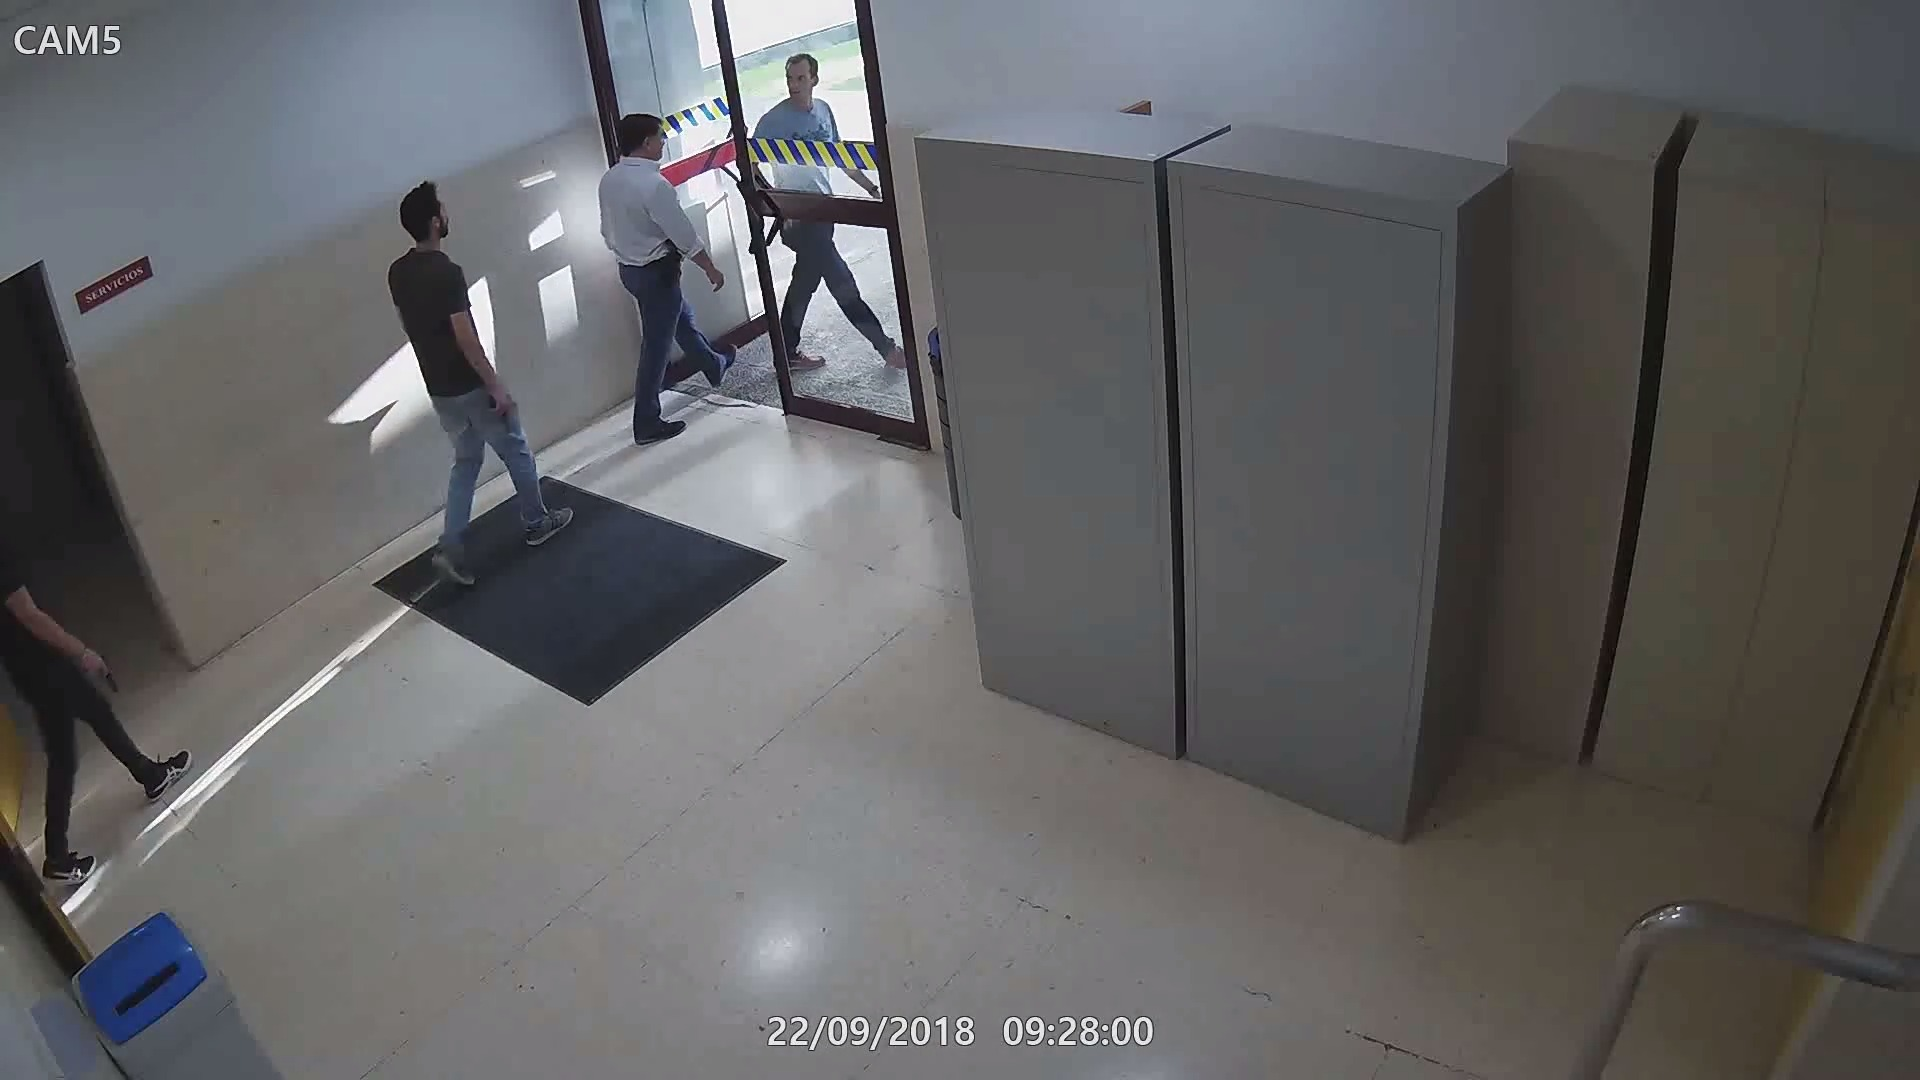Handgun: (79, 655, 124, 695), (485, 388, 520, 434), (661, 240, 688, 281)
